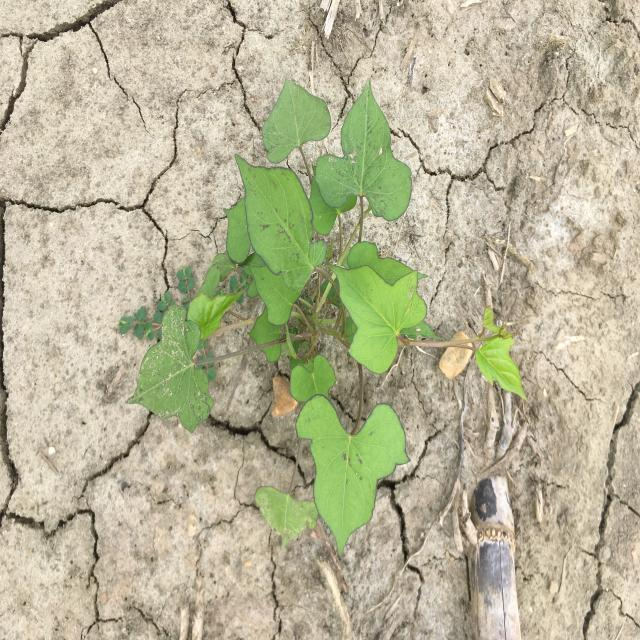MorningGlory: (124, 75, 530, 561)
SpottedSpurge: (118, 264, 251, 380)
